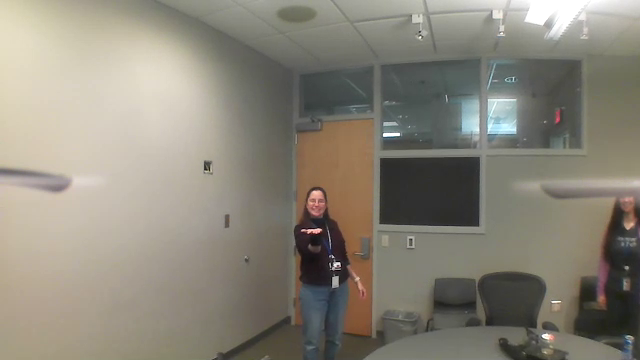land: (297, 226, 328, 241)
